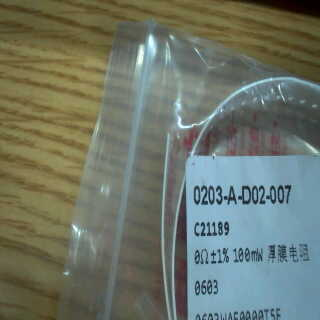0R: (191, 245, 267, 302)
